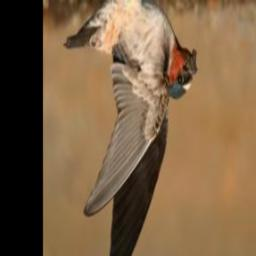Swallow: (62, 0, 198, 256)
